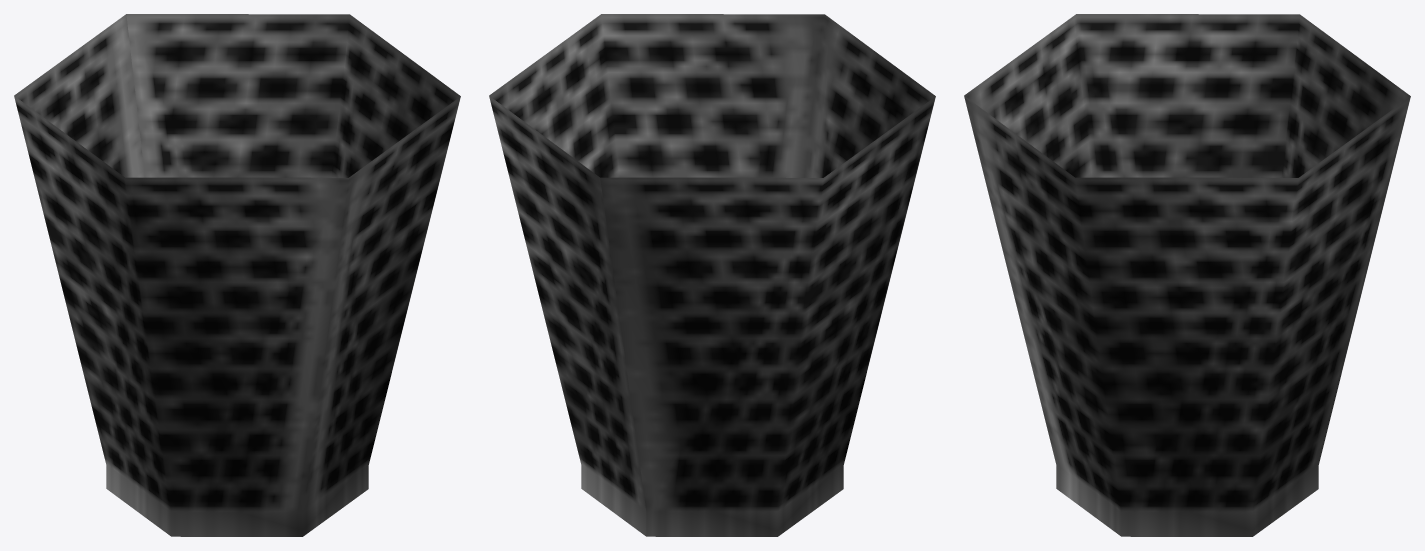
The model's file is trashcan.dae.
The picture shows the model from 3 angles, left to right: view 1: azimuth 30°, elevation 25°; view 2: azimuth 150°, elevation 25°; view 3: azimuth 270°, elevation 25°; orthographic projection.
Parts seen in each view (by area): view 1: Trashcan; view 2: Trashcan; view 3: Trashcan.
Part boxes in pixels (x1,y1,x2,y2): Trashcan: (14, 14, 460, 536); Trashcan: (489, 14, 935, 536); Trashcan: (964, 14, 1410, 536).
Size of the model in its own units: 0.4729 by 0.545 by 0.5286.
Materials: 1 (1 with a texture image).
